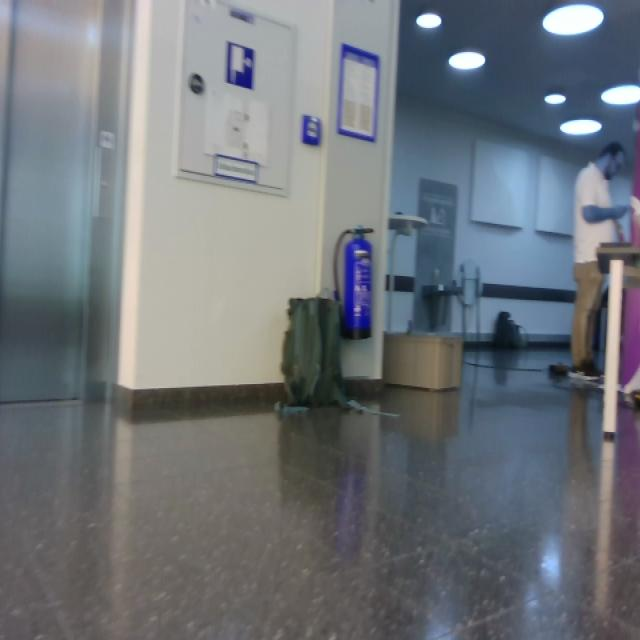door: (119, 1, 334, 390), (1, 1, 134, 405)
fire extinguisher: (334, 225, 375, 340)
light bulb: (542, 4, 605, 37), (601, 84, 640, 106), (448, 50, 486, 72), (560, 118, 603, 136), (416, 12, 442, 30), (544, 92, 567, 106)
person: (569, 141, 638, 378)
tiled floor: (1, 345, 640, 638)
